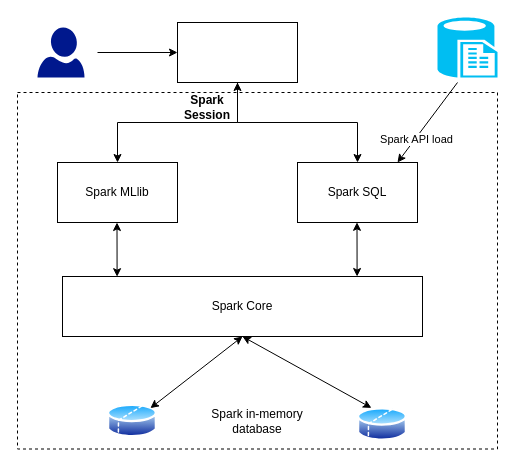
The diagram is 515 pixels wide and 466 high, and some of its shapes have lost their labels. The shapes that lost their labels are listed below. From the top down, each one's centre as x and y in pixels, then its label:
the point at 237,52: Application
the point at 467,47: csv
